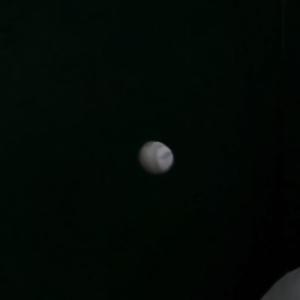ball: (138, 140, 175, 177)
